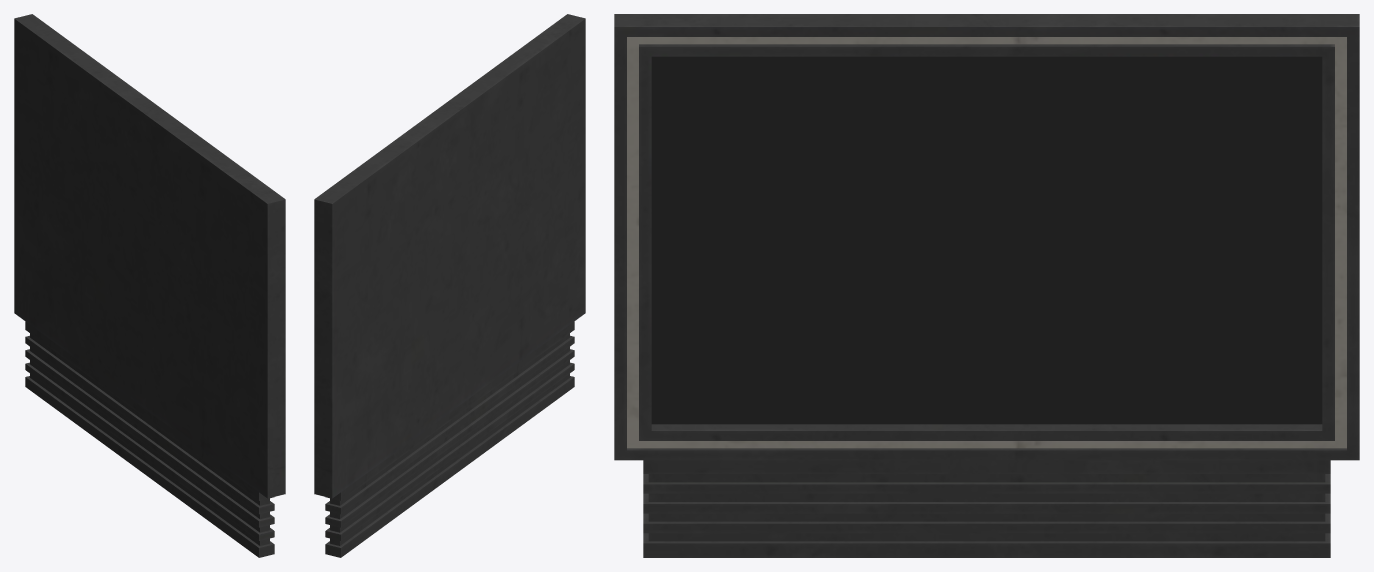
The model's file is SM_NeonSigns_Whiskey.FBX.
3 views of the same model, side by side, from view 1: azimuth 30°, elevation 25°; view 2: azimuth 150°, elevation 25°; view 3: azimuth 270°, elevation 25° (orthographic). The views are drawn at different scales.
Visible parts, largest first — view 1: SM_NeonSigns_Whiskey_LOD0; view 2: SM_NeonSigns_Whiskey_LOD0; view 3: SM_NeonSigns_Whiskey_LOD0.
Part boxes in pixels (box(x1,y1,x2,y2)): SM_NeonSigns_Whiskey_LOD0: box(14, 14, 285, 557); SM_NeonSigns_Whiskey_LOD0: box(314, 14, 585, 557); SM_NeonSigns_Whiskey_LOD0: box(614, 14, 1359, 557).
Size of what is drawn, in the model's own units: 16.44 by 394 by 310.
